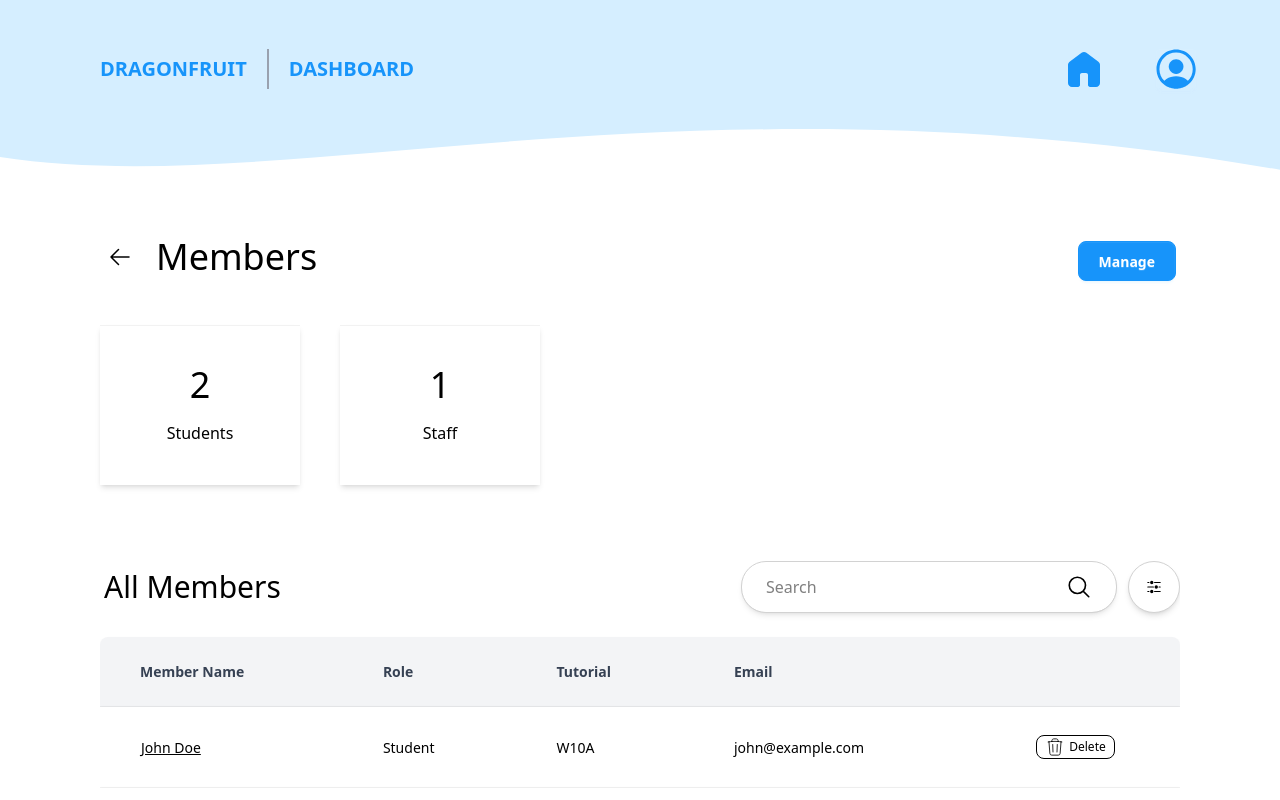
Test: AllMembers Page › should allow deletion
Click the button "Delete". click: coordinates (1076, 747)
box: [1036,735,1115,759]
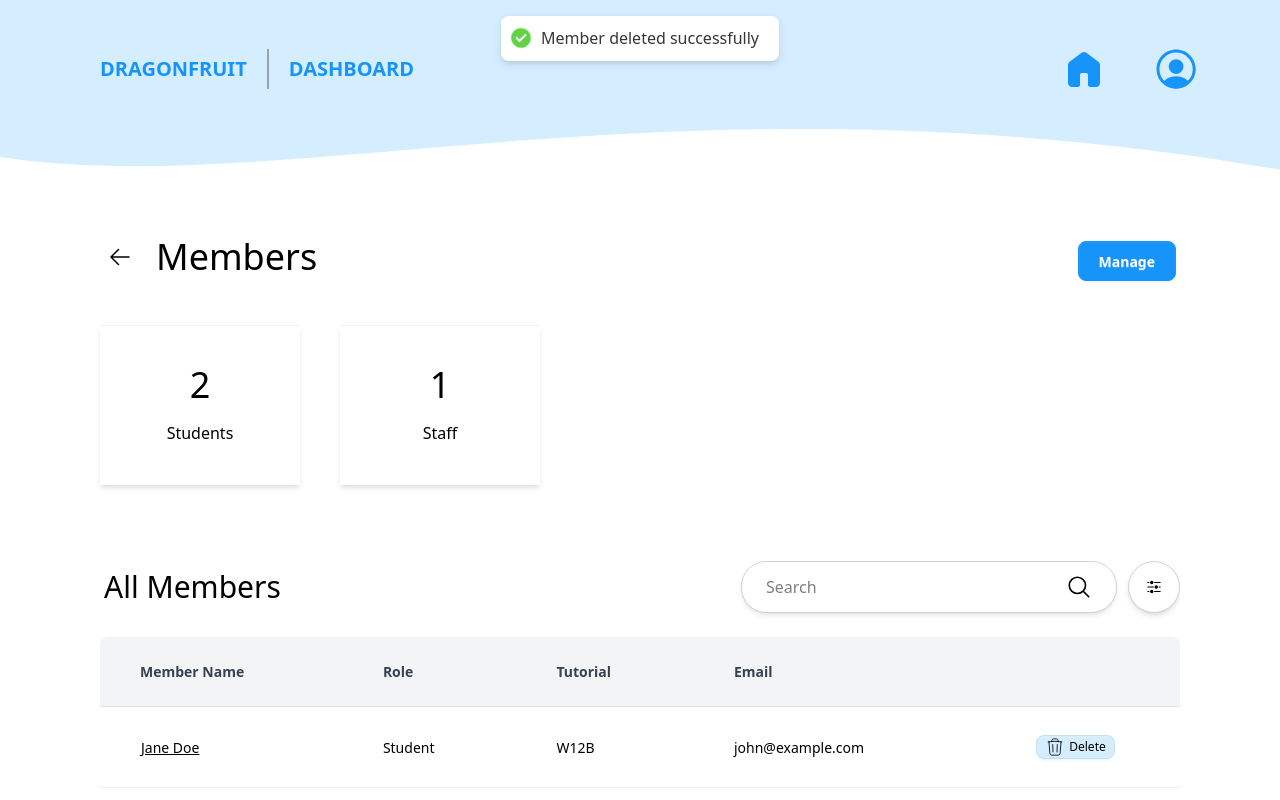
Now the button "John Doe" is gone
